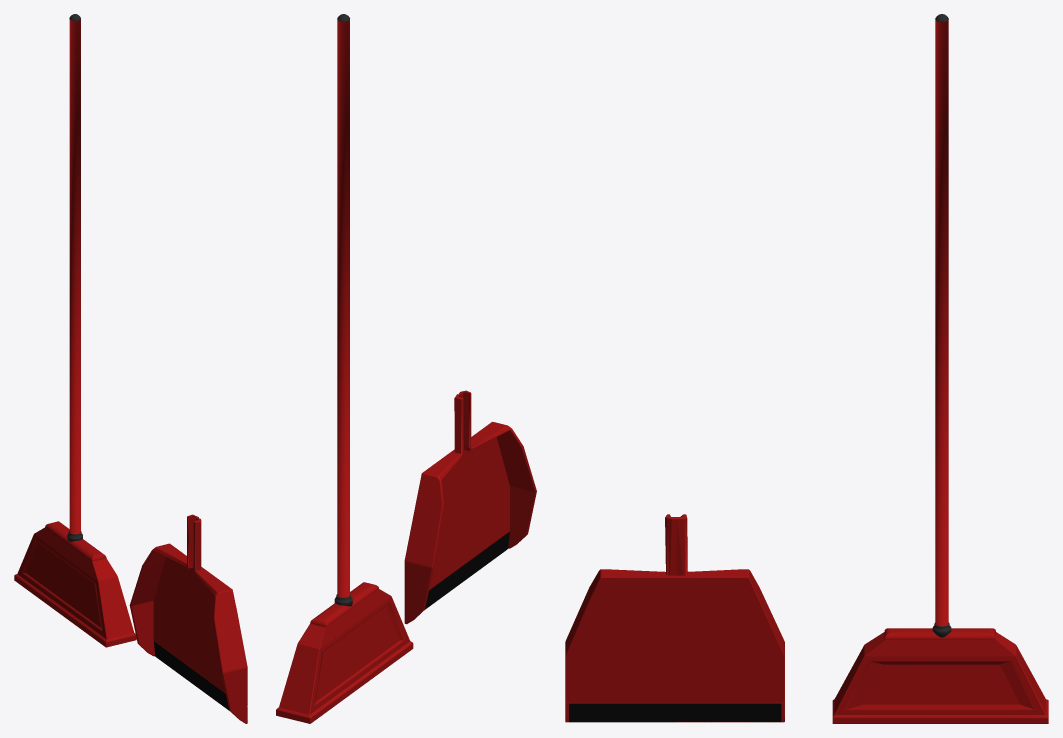
The model's file is broomMenu.fbx.
3 renders of one model, left to right at view 1: azimuth 30°, elevation 25°; view 2: azimuth 150°, elevation 25°; view 3: azimuth 270°, elevation 25°, orthographic. The views are drawn at different scales.
Parts seen in each view (by area): view 1: dust pan; view 2: dust pan; view 3: dust pan.
Part boxes in pixels (x1,y1,x2,y2): dust pan: (14, 14, 247, 723); dust pan: (276, 14, 536, 723); dust pan: (565, 14, 1048, 723).
Bounding box in the file's own units: 57.48 × 1058 × 662.
